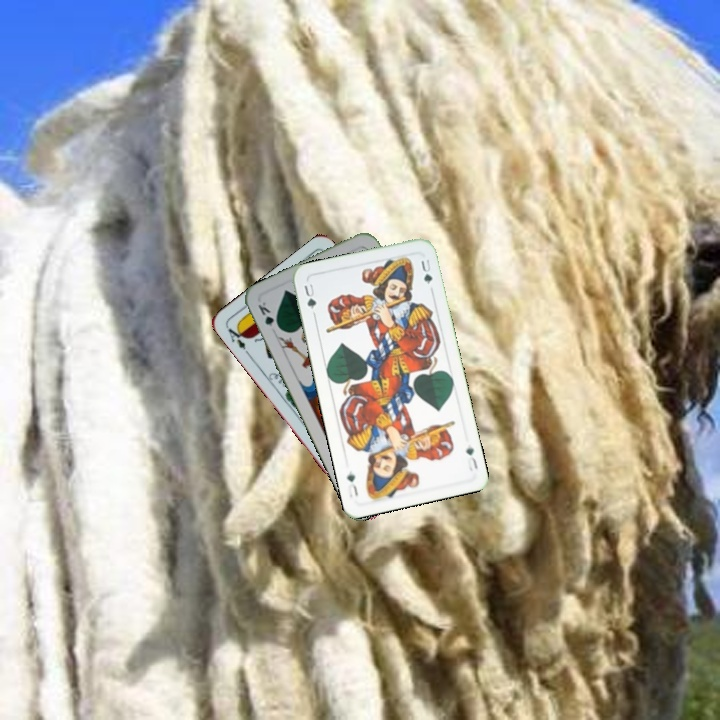EA: (223, 322, 250, 352)
GK: (254, 298, 283, 333)
GU: (300, 279, 319, 312), (462, 442, 480, 473)
